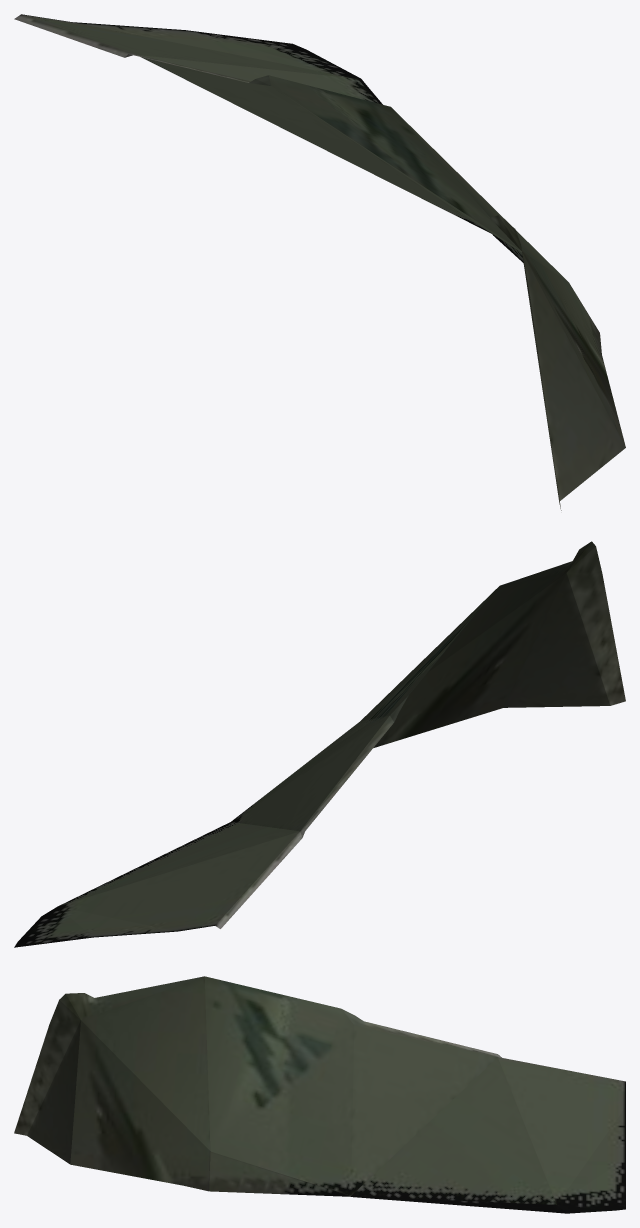
3 views of the same model, one above another, from view 1: azimuth 30°, elevation 25°; view 2: azimuth 150°, elevation 25°; view 3: azimuth 270°, elevation 25° (orthographic). The views are drawn at different scales.
Bounding box in the file's own units: 1.64 × 1.5 × 5.3.
Materials: 1 (1 with a texture image).
